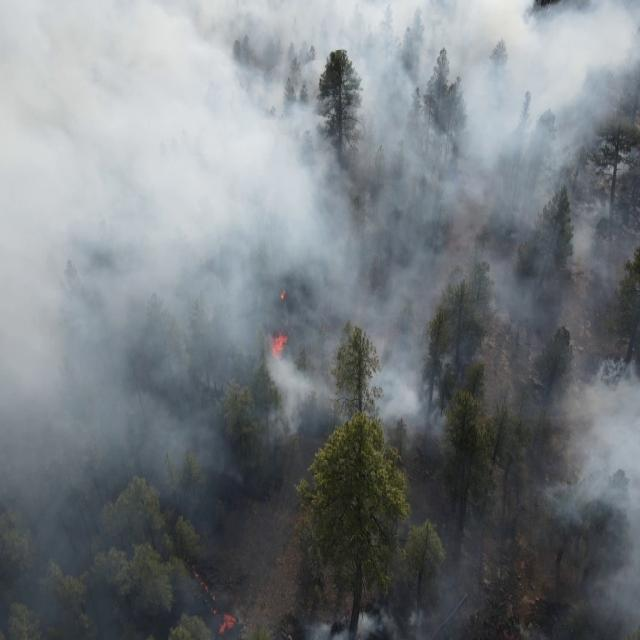fire: (186, 562, 217, 602), (214, 611, 237, 635), (268, 333, 290, 358), (280, 290, 288, 300)
smoke: (0, 0, 640, 415), (0, 417, 273, 632), (537, 416, 640, 640), (409, 508, 512, 597), (300, 608, 482, 638), (382, 417, 450, 448), (273, 414, 333, 448)
